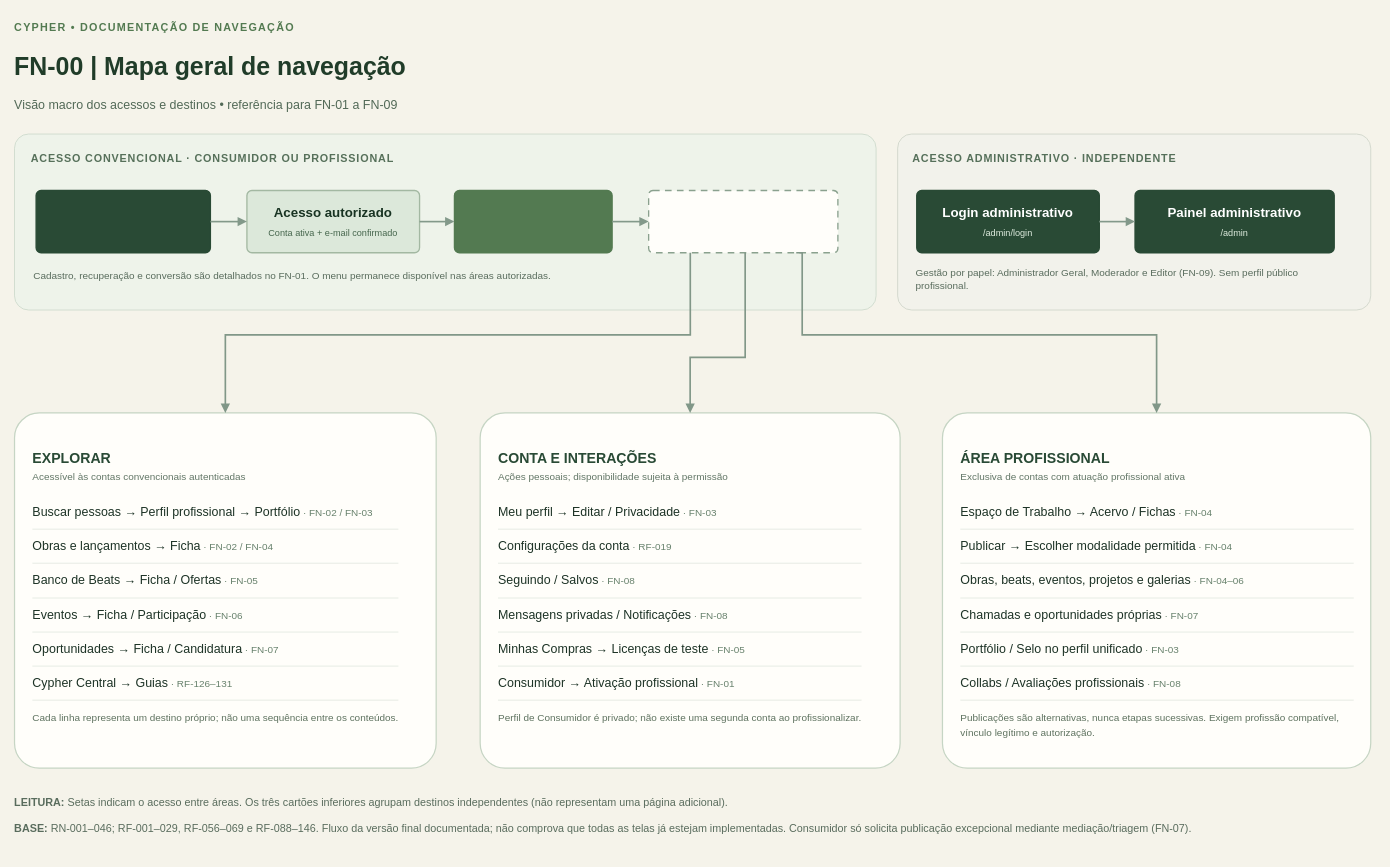
Some shapes in this 1390 by 867 pixel diagram are drawn without their labels. Here are the shapes that lost their labels. From the top down, the box of each, then its label:
(35, 189, 211, 253): Login / Cadastro /login • /register
(453, 189, 612, 253): Descoberta Página inicial
(648, 189, 838, 253): Menu / atalhos Componente de navegação
